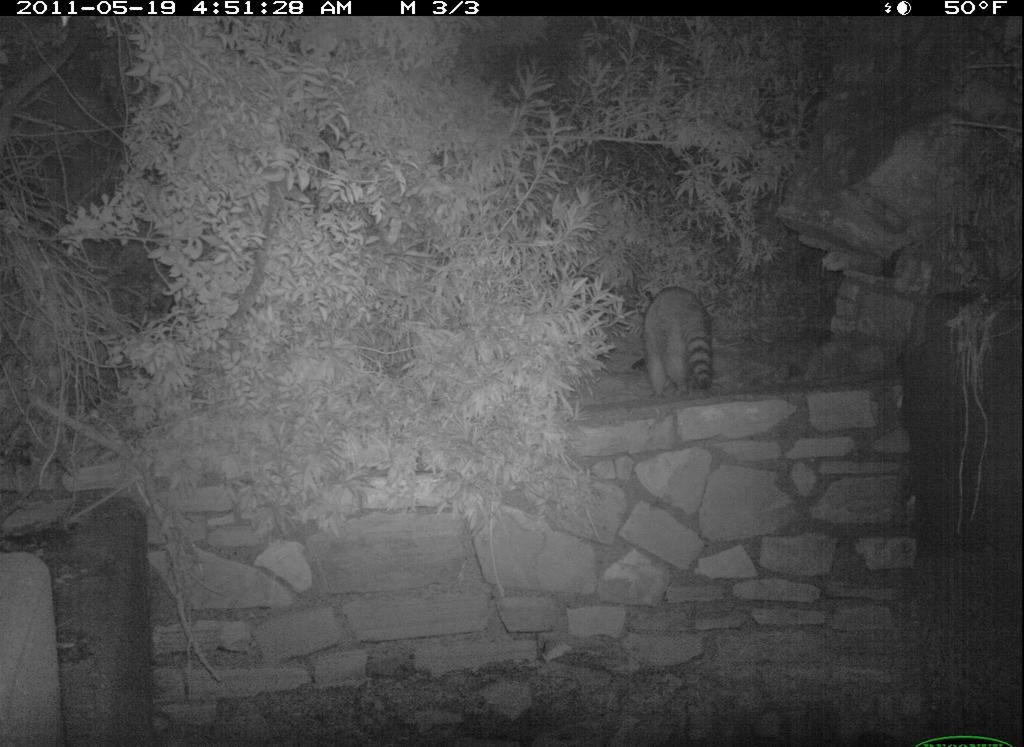raccoon: (634, 277, 728, 406)
